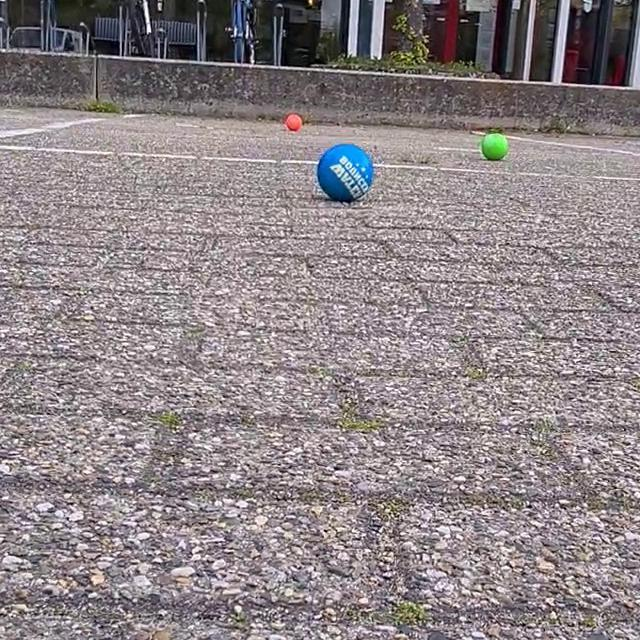ball: (480, 128, 511, 165), (282, 113, 304, 134)
